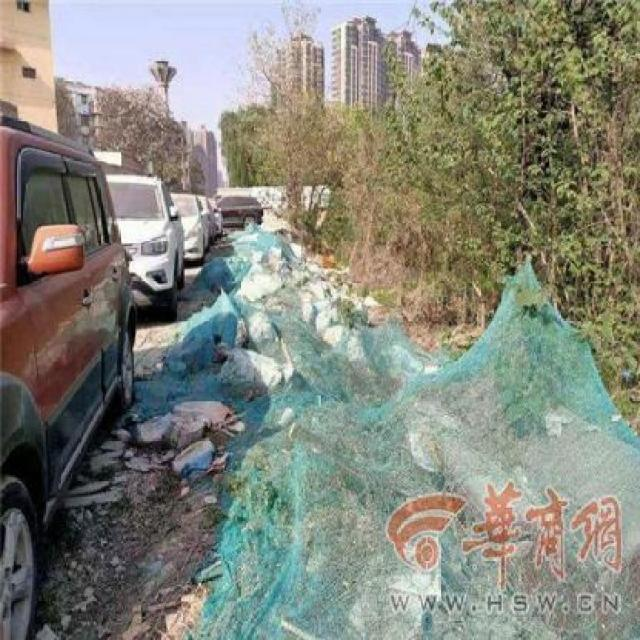garbage: (214, 234, 350, 640), (358, 308, 636, 487), (134, 397, 220, 482)
